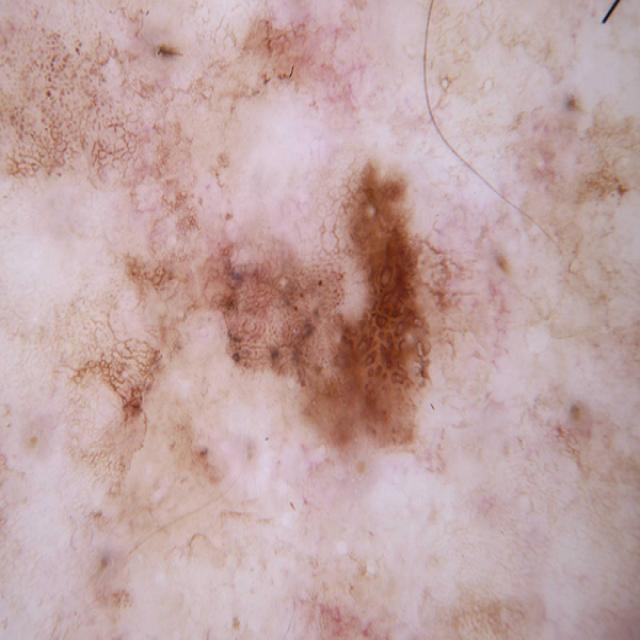Skin-Cancer Pigmented benign keratosis: (2, 6, 640, 640)
